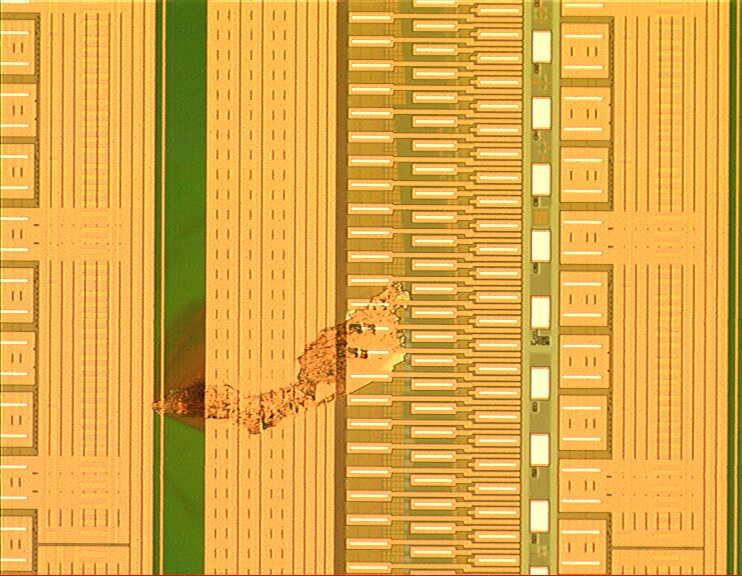BLOCK ETCH: (147, 276, 417, 438)
